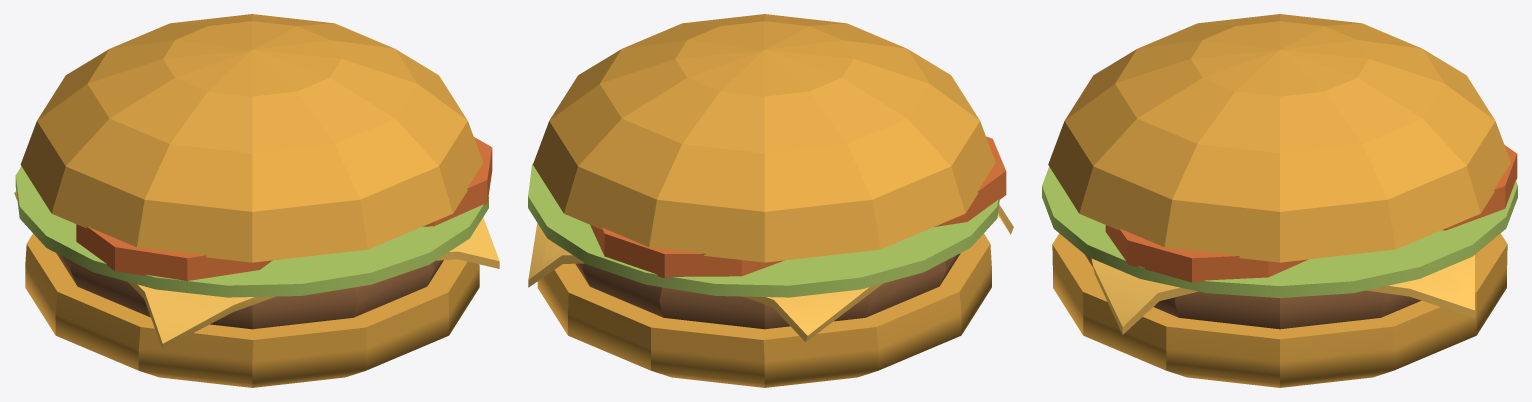
The model's file is fbx_hamburger.fbx.
3 renders of one model, left to right at view 1: azimuth 30°, elevation 25°; view 2: azimuth 150°, elevation 25°; view 3: azimuth 270°, elevation 25°, orthographic.
Parts seen in each view (by area): view 1: asset:fbx_hamburger; view 2: asset:fbx_hamburger; view 3: asset:fbx_hamburger.
Boxes of the visible parts, x1,y1,x2,y2 form: asset:fbx_hamburger: (14,14,499,387); asset:fbx_hamburger: (528,14,1013,387); asset:fbx_hamburger: (1042,14,1517,387).
Bounding box in the file's own units: 0.8012 × 0.4817 × 0.8012.
Materials: 1 (1 with a texture image).
